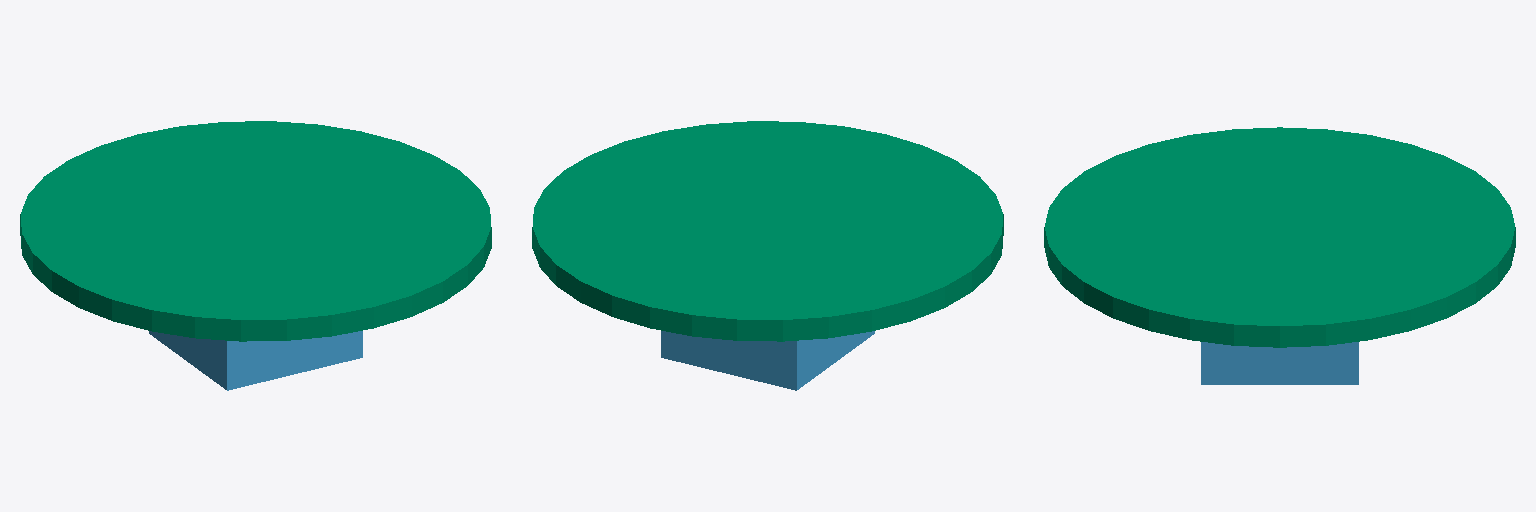
The robot description file, URDF, robot "flywheel":
<?xml version="1.0"?>
<!-- A flywheel on a fixed base, turned by a motor. The <lagrange> block names the netlist and says
     what SPICE cannot: what the battery holds, where the bus trips, which joint the motor turns.
     Other URDF readers skip the block. Sizes are illustrative. -->
<robot name="flywheel">
  <link name="world"/>
  <joint name="mount" type="fixed">
    <parent link="world"/>
    <child link="base_link"/>
    <origin xyz="0 0 0.3"/>
  </joint>
  <link name="base_link">
    <inertial>
      <mass value="5"/>
      <inertia ixx="0.05" iyy="0.05" izz="0.05" ixy="0" ixz="0" iyz="0"/>
    </inertial>
    <visual><geometry><box size="0.2 0.2 0.1"/></geometry></visual>
  </link>
  <link name="wheel">
    <inertial>
      <mass value="4"/>
      <inertia ixx="0.1" iyy="0.1" izz="0.18" ixy="0" ixz="0" iyz="0"/>
    </inertial>
    <visual>
      <origin xyz="0 0 0.05"/>
      <geometry><cylinder radius="0.3" length="0.03"/></geometry>
    </visual>
  </link>
  <joint name="spin" type="continuous">
    <parent link="base_link"/>
    <child link="wheel"/>
    <origin xyz="0 0 0.06"/>
    <axis xyz="0 0 1"/>
    <limit effort="20" velocity="30"/>
  </joint>
  <lagrange>
    <schematic file="power.cir"/>
    <battery source="V_pack" capacity="72000" cutoff="18" max_charge="10"/>
    <bus node="dc" undervoltage="15" overvoltage="30"/>
    <motor joint="spin" node="dc" r="0.2" l="0.0003" kt="0.1" imax="20" gear="10" rotor_inertia="0.0001"/>
  </lagrange>
</robot>

--- Facts derived from the render (not from the file) ---
The picture shows the robot from 3 angles, left to right: view 1: azimuth 30°, elevation 25°; view 2: azimuth 150°, elevation 25°; view 3: azimuth 270°, elevation 25°; orthographic projection.
Model flywheel with 3 links and 2 joints (1 continuous, 1 fixed), rooted at world, posed all joints at 0.
Visible links, largest first — view 1: wheel, base_link; view 2: wheel, base_link; view 3: wheel, base_link.
Link boxes in pixels (x1,y1,x2,y2): wheel: (20,121,491,341); base_link: (149,331,362,390); wheel: (532,121,1003,341); base_link: (661,331,874,390); wheel: (1044,127,1515,347); base_link: (1201,342,1358,384).
Bounding box of the posed robot: 0.6 × 0.6 × 0.175 m (x, y, z).
Geometry: primitives only (box / cylinder / sphere), no mesh files.
